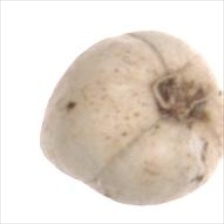L4: (39, 31, 222, 207)
